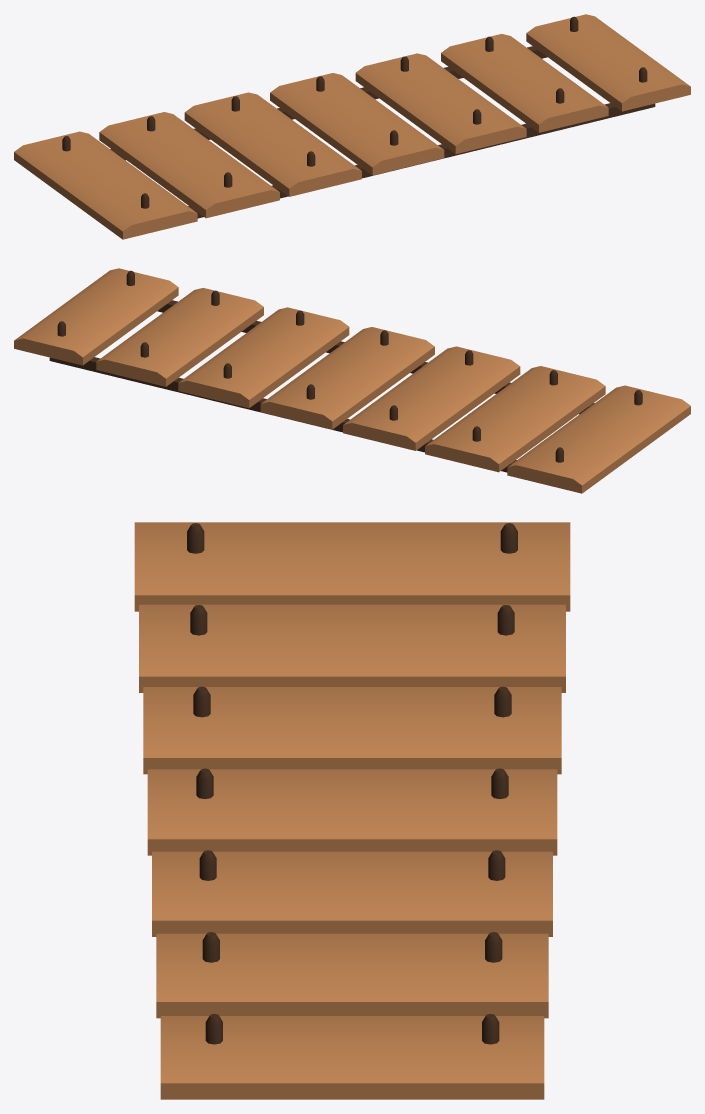
Rendered from SaronBarung.fbx.
3 views of the same model, one above another, from view 1: azimuth 30°, elevation 25°; view 2: azimuth 150°, elevation 25°; view 3: azimuth 270°, elevation 25° (orthographic). The views are drawn at different scales.
Parts seen in each view (by area): view 1: SaronBarung_Mesh; view 2: SaronBarung_Mesh; view 3: SaronBarung_Mesh.
Part boxes in pixels (x1,y1,x2,y2): SaronBarung_Mesh: (14, 14, 690, 239); SaronBarung_Mesh: (14, 268, 690, 493); SaronBarung_Mesh: (134, 522, 570, 1099).
Size of the model in its own units: 0.599 by 0.0347 by 0.1966.
